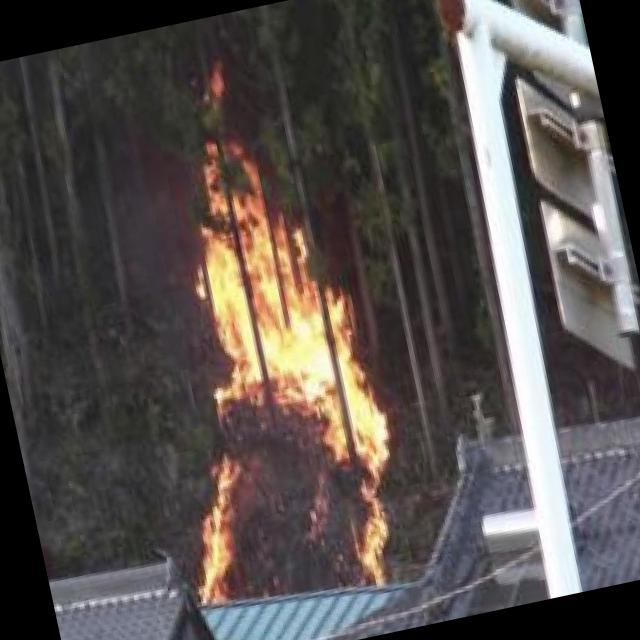Fire: (115, 127, 414, 612)
